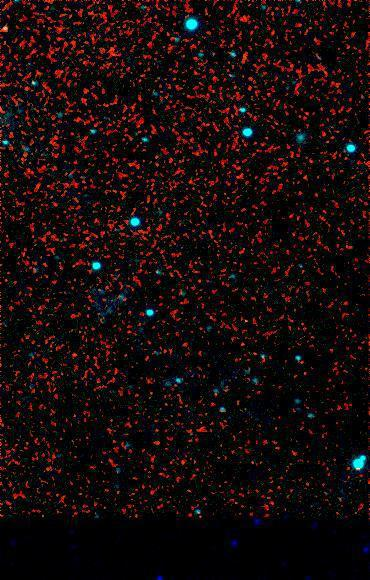star: (0, 16, 22, 46)
